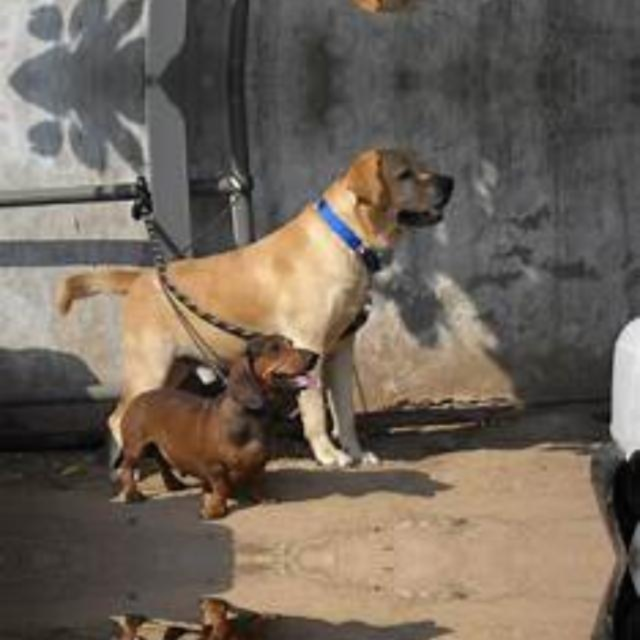dog: (87, 152, 481, 345), (121, 340, 320, 520), (120, 597, 319, 640), (87, 0, 481, 7)
